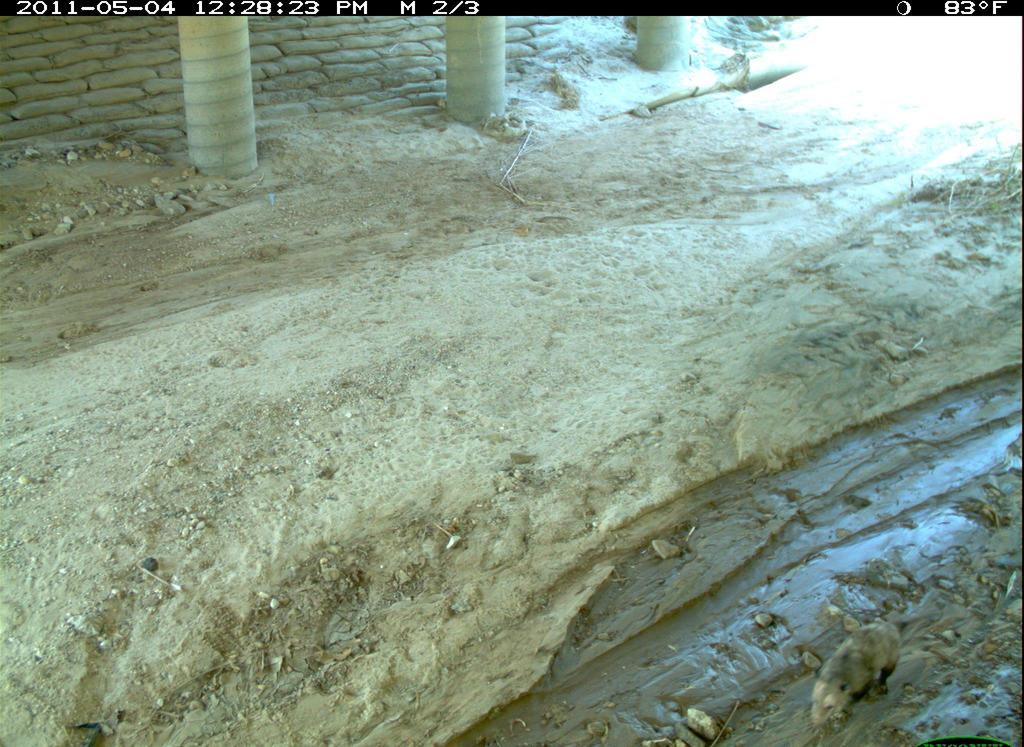opossum: (788, 591, 905, 739)
